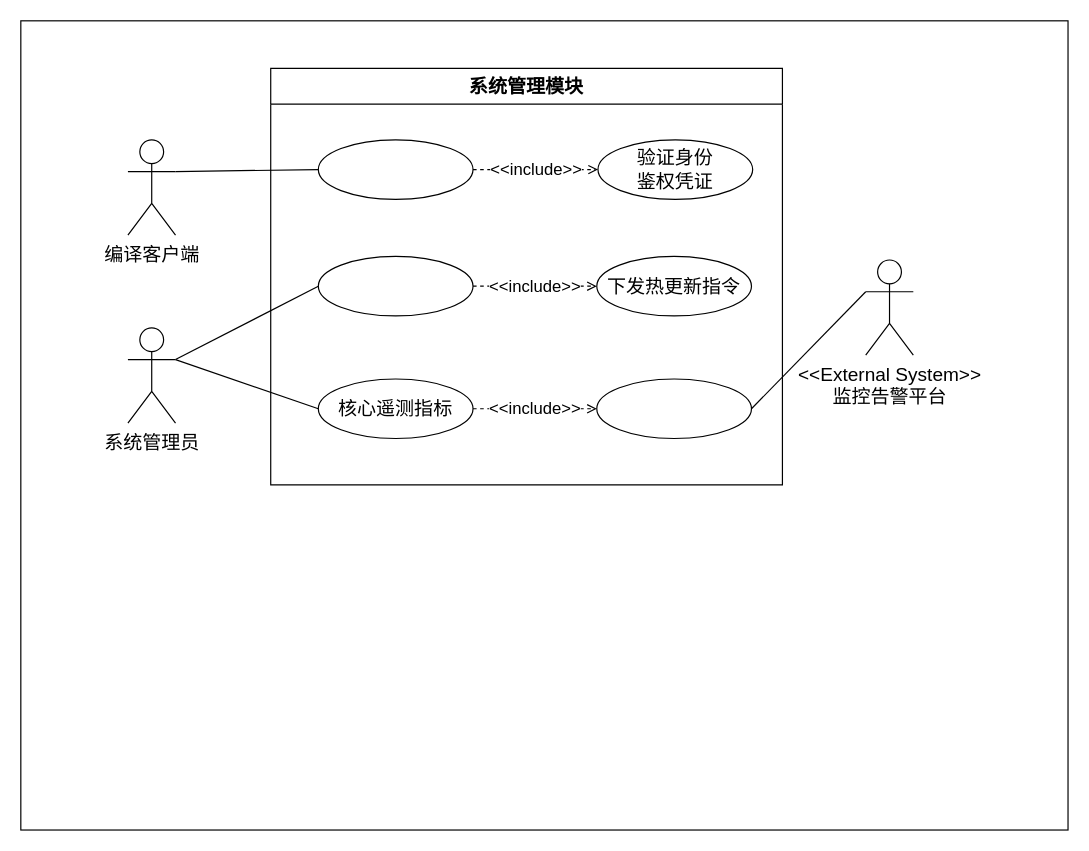
Some shapes in this 1089 by 851 pixel diagram are drawn without their labels. Each missing label, with the centre of its shape:
"授权访问资源" belongs at point 395,169.
"监控系统运行" belongs at point 673,408.
"配置系统参数" belongs at point 395,285.
